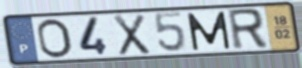4: (77, 15, 113, 58)
5: (152, 10, 188, 55)
M: (185, 10, 233, 53)
O: (35, 17, 75, 60)
R: (225, 7, 271, 52)
X: (111, 13, 152, 58)
